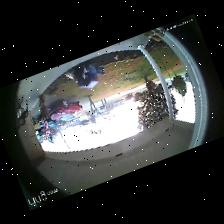person: (84, 61, 105, 74)
